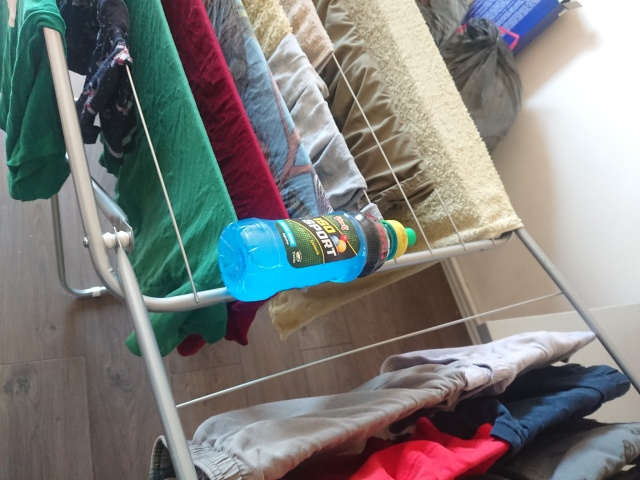Vindi Iso Sport Forest Strawberries 500mL: (214, 207, 418, 302)
